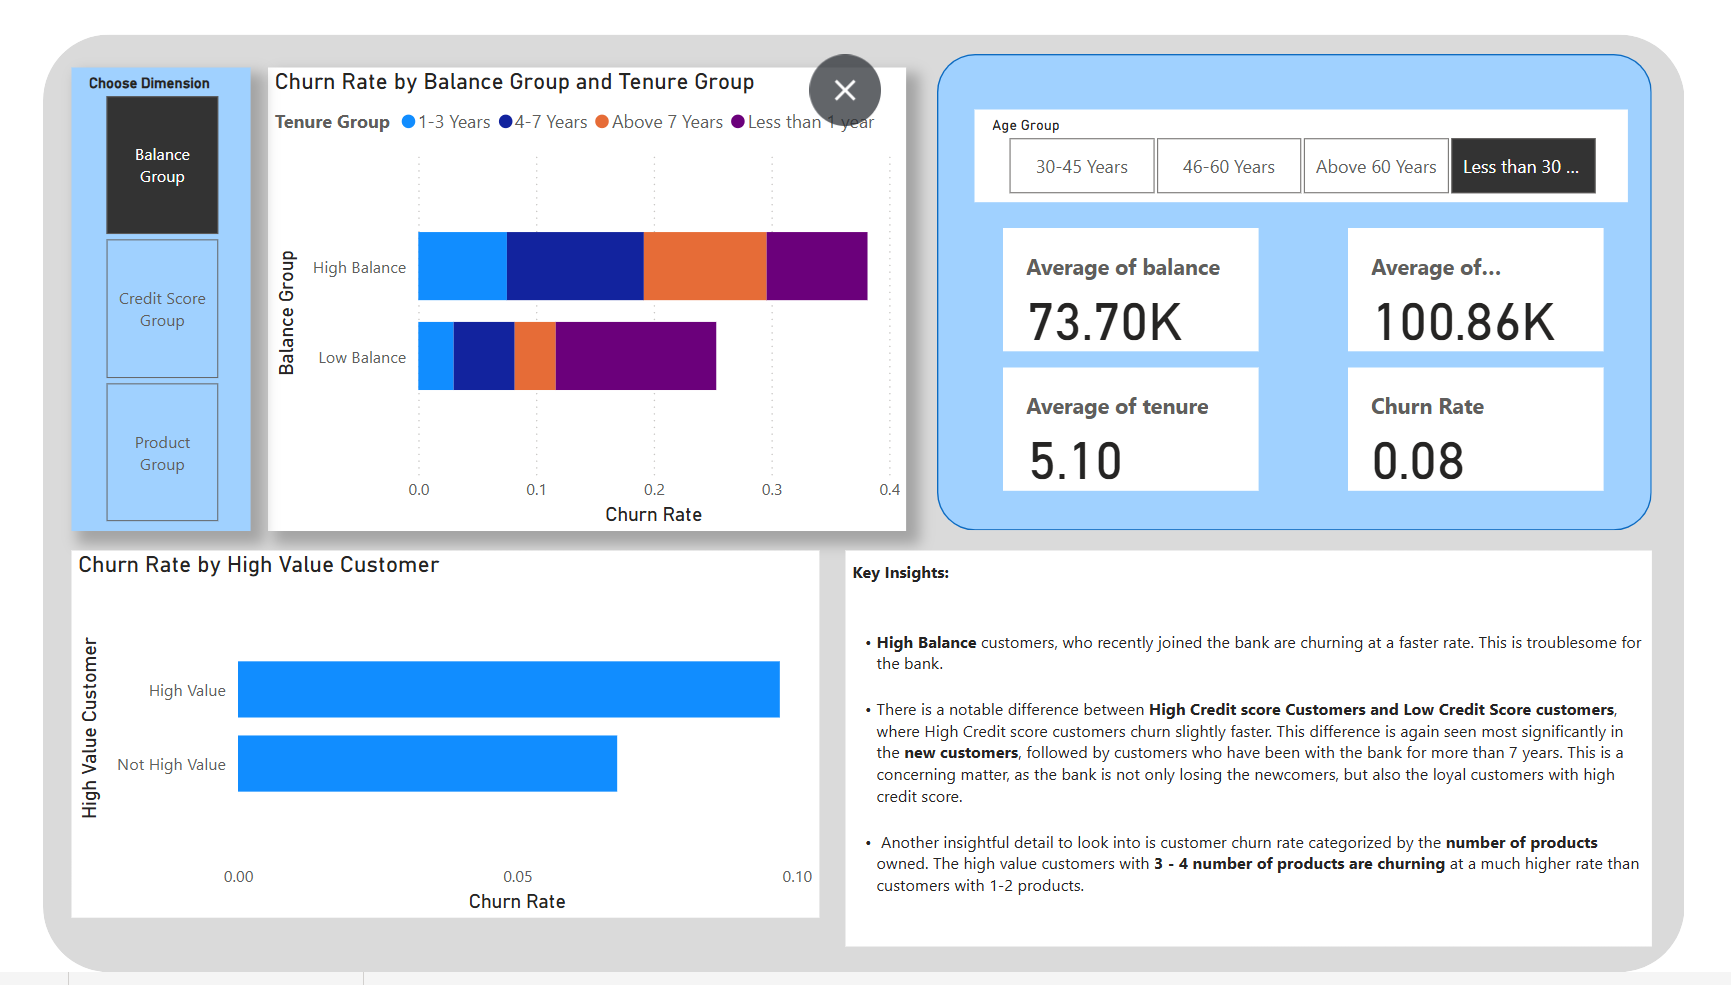

What the dashboard file says about the page in this screenshot:
{"tool":"powerbi","page":{"name":"Page 2","canvas":[1280,720],"ordinal":1},"visuals":[{"type":"shape","box":[727,40.5,529.5,353],"z":0,"group":"g1"},{"type":"shape","box":[64.8,25.9,1216,694.6],"z":0},{"type":"slicer","fields":{"Values":["churn_analysis bank.Age Group"]},"box":[755,81.5,484.1,68.8],"z":1000,"group":"g1"},{"type":"barChart","fields":{"Category":["churn_analysis bank.Products Group"],"Y":["churn_analysis bank.Churn Rate"],"Series":["churn_analysis bank.Tenure Group"]},"box":[231.5,50.2,472.8,343.3],"z":1000},{"type":"slicer","fields":{"Values":["T Dynamic Dim.T Dynamic Dim"]},"box":[85.8,50.2,132.8,343.3],"z":2000},{"type":"cardVisual","fields":{"Data":["Avg(churn_analysis bank.balance)"]},"box":[776,169.8,189.4,91.2],"z":2000,"group":"g1"},{"type":"cardVisual","fields":{"Data":["Avg(churn_analysis bank.estimated_salary)"]},"box":[1031.9,169.8,189.4,91.2],"z":3000,"group":"g1"},{"type":"group","id":"g1","title":"Group 1","box":[727,40.5,529.5,353],"z":4000},{"type":"cardVisual","fields":{"Data":["churn_analysis bank.Churn Rate"]},"box":[1031.9,273,189.4,91.2],"z":4000,"group":"g1"},{"type":"cardVisual","fields":{"Data":["Avg(churn_analysis bank.tenure)"]},"box":[776,273,189.4,91.2],"z":5000,"group":"g1"},{"type":"barChart","fields":{"Category":["churn_analysis bank.High Value Customer"],"Y":["churn_analysis bank.Churn Rate"]},"box":[85.8,408,553.8,272],"z":5000},{"type":"textbox","box":[659,408,597.5,293.1],"z":5001}]}

Visuals, with their boxes in screenshot pixels (x1, y1, x2, y2), scaled from the page's 1280x720 canvas onto the 1731x985 screenshot:
shape: pyautogui.locateOnScreen(983, 55, 1699, 538)
shape: pyautogui.locateOnScreen(88, 35, 1730, 984)
slicer - churn_analysis bank.Age Group: pyautogui.locateOnScreen(1021, 111, 1676, 206)
barChart - churn_analysis bank.Products Group x churn_analysis bank.Churn Rate: pyautogui.locateOnScreen(313, 69, 952, 538)
slicer - T Dynamic Dim.T Dynamic Dim: pyautogui.locateOnScreen(116, 69, 296, 538)
cardVisual - Avg(churn_analysis bank.balance): pyautogui.locateOnScreen(1049, 232, 1306, 357)
cardVisual - Avg(churn_analysis bank.estimated_salary): pyautogui.locateOnScreen(1395, 232, 1652, 357)
"Group 1" group: pyautogui.locateOnScreen(983, 55, 1699, 538)
cardVisual - churn_analysis bank.Churn Rate: pyautogui.locateOnScreen(1395, 373, 1652, 498)
cardVisual - Avg(churn_analysis bank.tenure): pyautogui.locateOnScreen(1049, 373, 1306, 498)
barChart - churn_analysis bank.High Value Customer x churn_analysis bank.Churn Rate: pyautogui.locateOnScreen(116, 558, 865, 930)
textbox: pyautogui.locateOnScreen(891, 558, 1699, 959)
